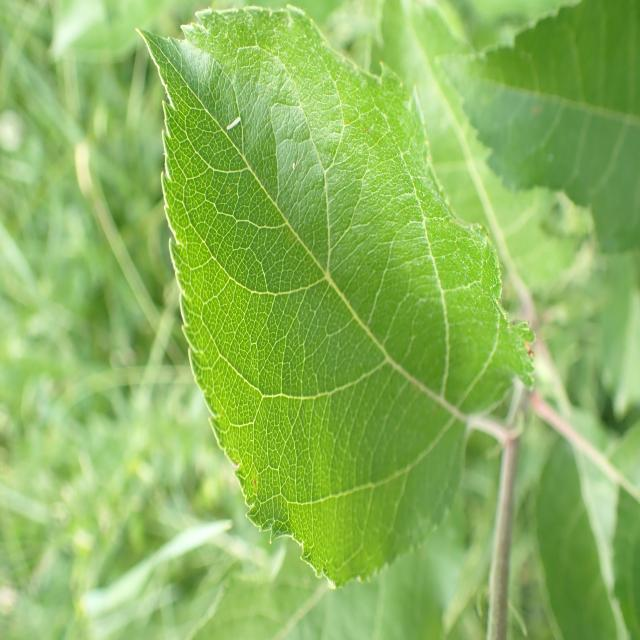healthy: (133, 1, 538, 590), (436, 0, 640, 252)
